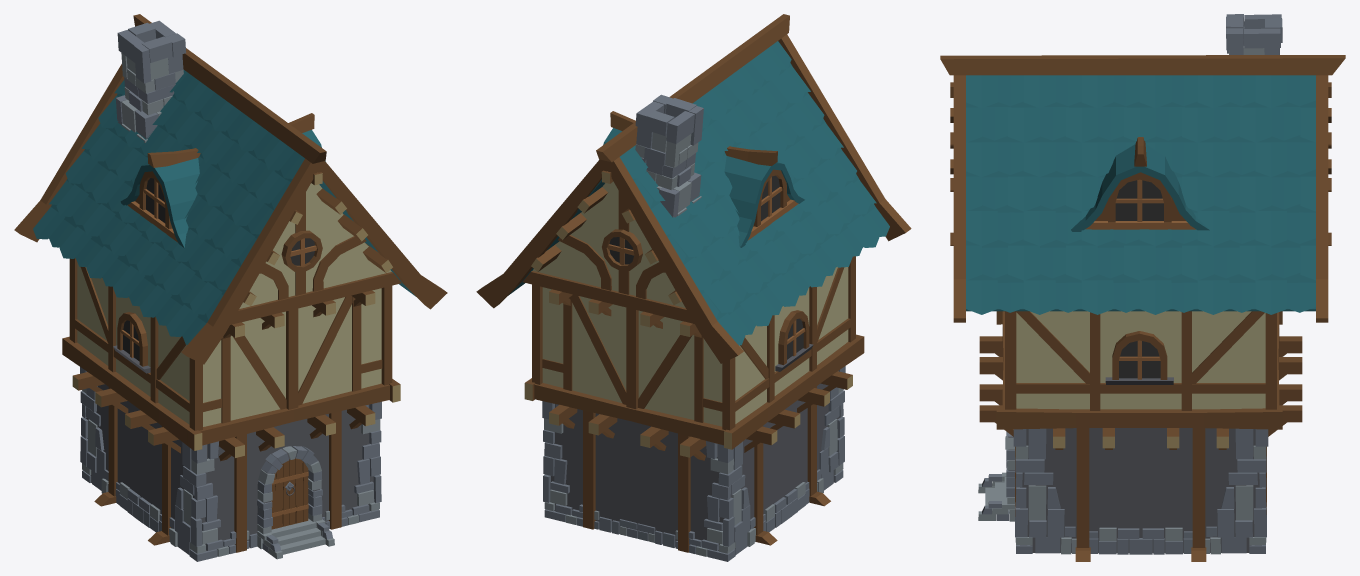
File: House_1.glb
3 views of the same model, side by side, from view 1: azimuth 30°, elevation 25°; view 2: azimuth 150°, elevation 25°; view 3: azimuth 270°, elevation 25° (orthographic). The views are drawn at different scales.
Visible parts, largest first — view 1: House_1; view 2: House_1; view 3: House_1.
Boxes of the visible parts, bbox=[...] form: House_1: bbox=[14, 14, 447, 561]; House_1: bbox=[476, 14, 911, 561]; House_1: bbox=[940, 14, 1345, 561].
Bounding box in the file's own units: 2.14 × 3.39 × 2.66.
